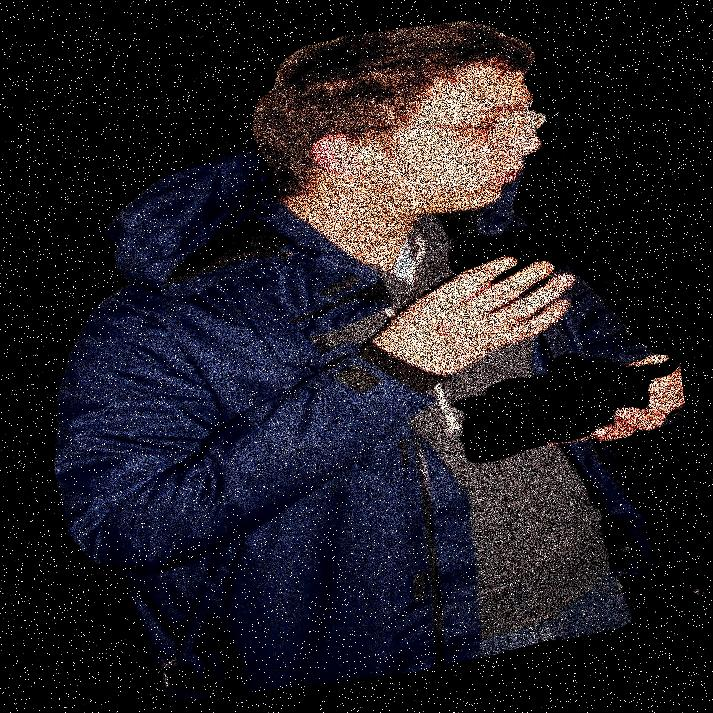Pessoa: (186, 0, 612, 712)
